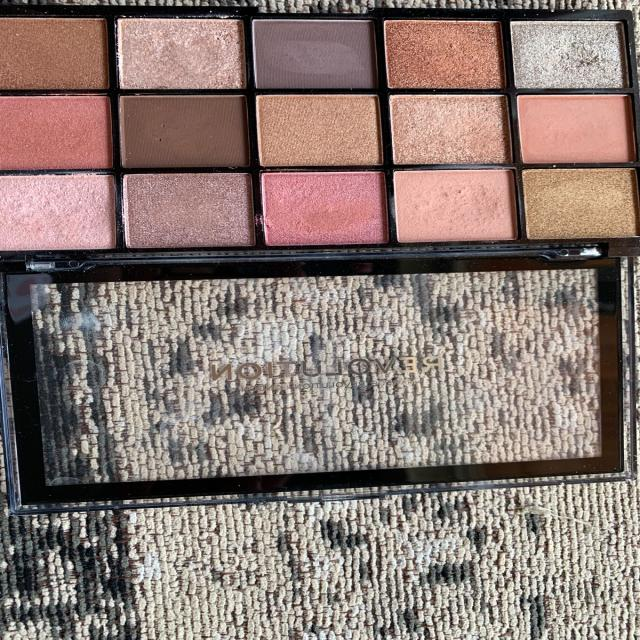eye shade: (0, 83, 640, 175), (0, 0, 635, 84), (0, 175, 640, 258), (107, 9, 257, 280), (377, 12, 525, 246), (251, 7, 385, 255), (508, 0, 640, 243), (0, 8, 118, 270)
